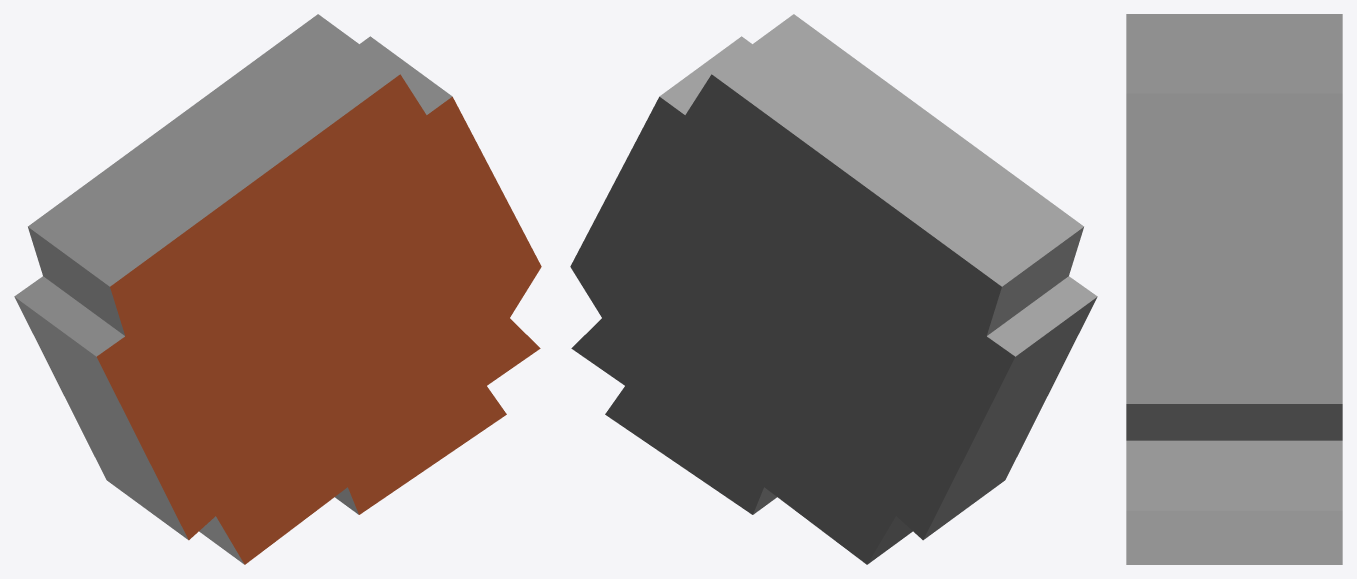
File: construction_2575_assumed_A_Casa_h6m.obj
3 renders of one model, left to right at view 1: azimuth 30°, elevation 25°; view 2: azimuth 150°, elevation 25°; view 3: azimuth 270°, elevation 25°, orthographic. The views are drawn at different scales.
Parts seen in each view (by area): view 1: construction_2575_assumed_A_Casa; view 2: construction_2575_assumed_A_Casa; view 3: construction_2575_assumed_A_Casa.
Boxes of the visible parts, left/top/right/bottom form: construction_2575_assumed_A_Casa: left=14, top=14, right=541, bottom=564; construction_2575_assumed_A_Casa: left=570, top=14, right=1097, bottom=564; construction_2575_assumed_A_Casa: left=1126, top=14, right=1342, bottom=564.
Bounding box in the file's own units: 18.75 × 18.23 × 6.
